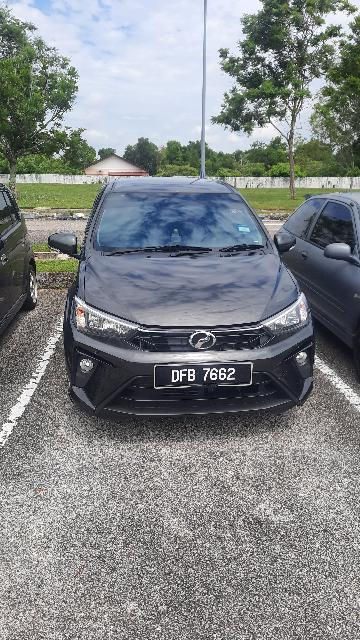License_Plate: (154, 361, 256, 390)
car: (46, 176, 323, 425)
